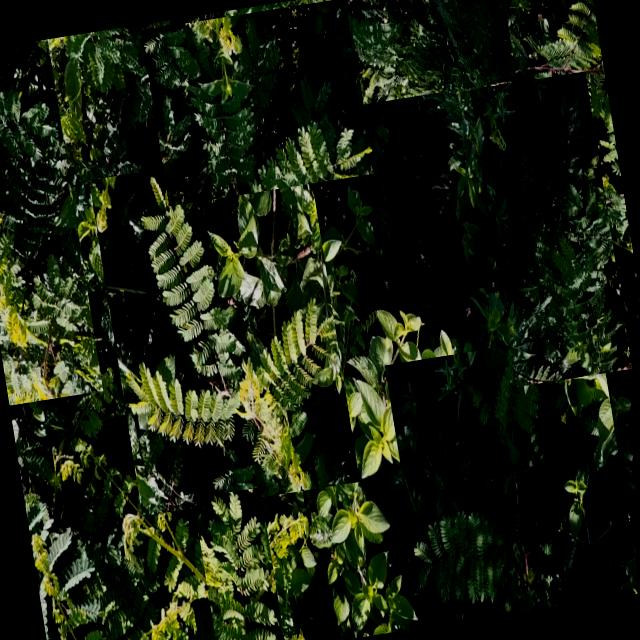Mysore-Thorn-Weed: (90, 146, 360, 516), (385, 331, 640, 627), (470, 71, 632, 386), (141, 0, 378, 206), (0, 39, 103, 405), (22, 464, 188, 640), (346, 0, 516, 104), (193, 487, 285, 640)
